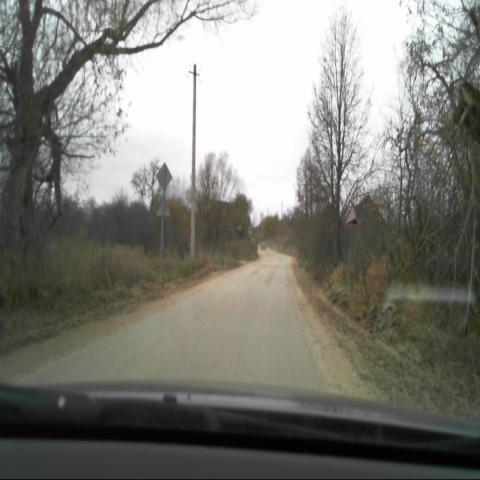1_14: (345, 205, 357, 226)
